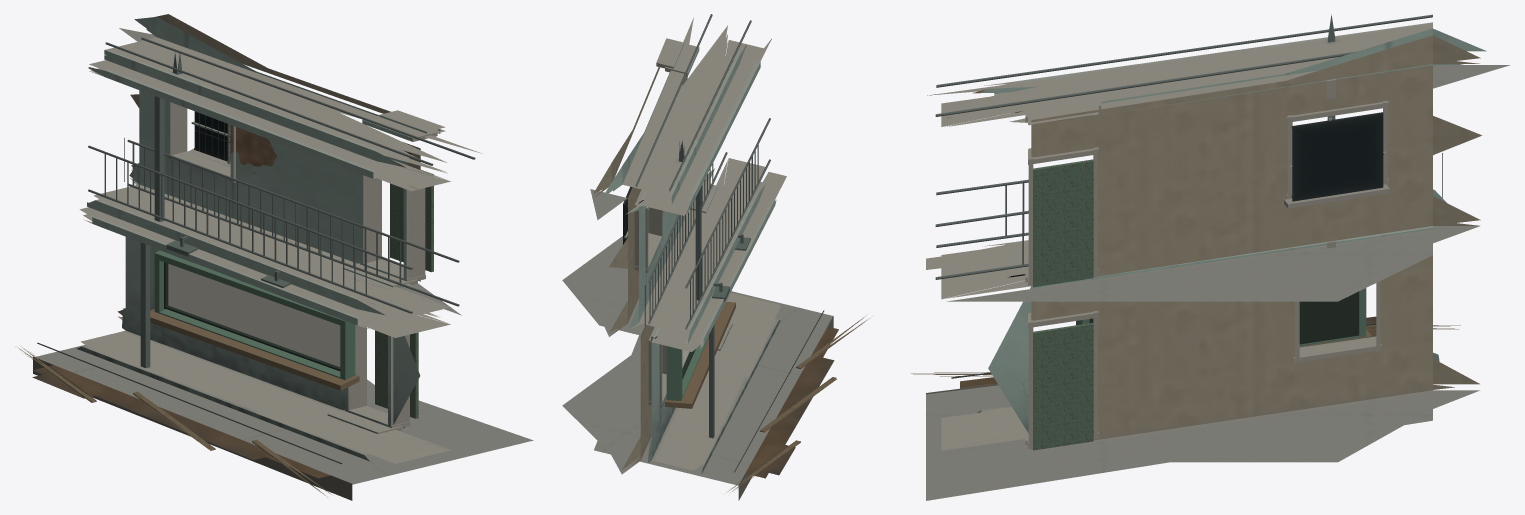
Rendered from contact-frontage.png.glb.
3 views of the same model, side by side, from view 1: azimuth 30°, elevation 25°; view 2: azimuth 150°, elevation 25°; view 3: azimuth 270°, elevation 25° (orthographic). The views are drawn at different scales.
Visible parts, largest first — view 1: Runtime / REV15Z / REV15N / Existing Events house shell, Runtime / REV15Z / REV15 / REV08 / perimeter roofs / continu, Runtime / REV15Z / REV15 / REV12 / R1 / mineral concrete, Runtime / REV15Z / REV15O / REV12 / R1 / blackened zinc and , Runtime / REV15Z / Single wide enquiry window frame and sill, Runtime / REV15Z / Full-width message surface inside window, Runtime / REV15Z / Rooftop slab / 32m x 40m / asphalt replac, Runtime / REV15Z / REV15 / REV12 / R1 / muted timber green s, Runtime / REV15Z / REV15 / REV12 / R1 / dusty non-emissive g, Runtime / REV15Z / REV15 / REV08 / roof services / bituminou, Runtime / REV15Z / Contact window shaded lamp fixtures; view 2: Runtime / REV15Z / REV15N / Existing Events house shell, Runtime / REV15Z / REV15 / REV08 / perimeter roofs / continu, Runtime / REV15Z / REV15O / REV12 / R1 / blackened zinc and , Runtime / REV15Z / REV15 / REV12 / R1 / mineral concrete, Runtime / REV15Z / Rooftop slab / 32m x 40m / asphalt replac, Runtime / REV15Z / Single wide enquiry window frame and sill, Runtime / REV15Z / REV15 / PILOT / roof edge service strip.0 (×3), Runtime / REV15Z / Contact window shaded lamp fixtures; view 3: Runtime / REV15Z / REV15N / Existing Events house shell, Runtime / REV15Z / REV15 / REV12 / R1 / muted timber green s, Runtime / REV15Z / REV15 / REV08 / perimeter roofs / continu, Runtime / REV15Z / REV15 / REV12 / R1 / mineral concrete, Runtime / REV15Z / REV15 / REV12 / R1 / dusty non-emissive g, Runtime / REV15Z / REV15O / REV12 / R1 / blackened zinc and , Runtime / REV15Z / Single wide enquiry window frame and sill, Runtime / REV15Z / R1 window detail batch.
Boxes of the visible parts, left/top/right/bottom form: Runtime / REV15Z / REV15N / Existing Events house shell: left=77, top=14, right=482, bottom=463; Runtime / REV15Z / REV15 / REV08 / perimeter roofs / continu: left=35, top=345, right=533, bottom=484; Runtime / REV15Z / REV15 / REV12 / R1 / mineral concrete: left=132, top=101, right=445, bottom=433; Runtime / REV15Z / REV15O / REV12 / R1 / blackened zinc and : left=88, top=35, right=475, bottom=313; Runtime / REV15Z / Single wide enquiry window frame and sill: left=150, top=250, right=359, bottom=390; Runtime / REV15Z / Full-width message surface inside window: left=168, top=264, right=340, bottom=366; Runtime / REV15Z / Rooftop slab / 32m x 40m / asphalt replac: left=32, top=357, right=352, bottom=500; Runtime / REV15Z / REV15 / REV12 / R1 / muted timber green s: left=375, top=170, right=433, bottom=418; Runtime / REV15Z / REV15 / REV12 / R1 / dusty non-emissive g: left=194, top=111, right=227, bottom=161; Runtime / REV15Z / REV15 / REV08 / roof services / bituminou: left=37, top=342, right=342, bottom=464; Runtime / REV15Z / Contact window shaded lamp fixtures: left=166, top=235, right=290, bottom=287; Runtime / REV15Z / REV15N / Existing Events house shell: left=562, top=17, right=786, bottom=474; Runtime / REV15Z / REV15 / REV08 / perimeter roofs / continu: left=594, top=291, right=832, bottom=485; Runtime / REV15Z / REV15O / REV12 / R1 / blackened zinc and : left=632, top=14, right=770, bottom=329; Runtime / REV15Z / REV15 / REV12 / R1 / mineral concrete: left=634, top=38, right=732, bottom=407; Runtime / REV15Z / Rooftop slab / 32m x 40m / asphalt replac: left=738, top=316, right=838, bottom=500; Runtime / REV15Z / Single wide enquiry window frame and sill: left=665, top=301, right=735, bottom=408; Runtime / REV15Z / REV15 / PILOT / roof edge service strip.0 (×3): left=728, top=315, right=869, bottom=492; Runtime / REV15Z / Contact window shaded lamp fixtures: left=712, top=234, right=750, bottom=301; Runtime / REV15Z / REV15N / Existing Events house shell: left=926, top=14, right=1510, bottom=462; Runtime / REV15Z / REV15 / REV12 / R1 / muted timber green s: left=1033, top=159, right=1093, bottom=450; Runtime / REV15Z / REV15 / REV08 / perimeter roofs / continu: left=926, top=385, right=1432, bottom=500; Runtime / REV15Z / REV15 / REV12 / R1 / mineral concrete: left=1025, top=79, right=1388, bottom=448; Runtime / REV15Z / REV15 / REV12 / R1 / dusty non-emissive g: left=1292, top=112, right=1383, bottom=201; Runtime / REV15Z / REV15O / REV12 / R1 / blackened zinc and : left=935, top=14, right=1442, bottom=279; Runtime / REV15Z / Single wide enquiry window frame and sill: left=1076, top=288, right=1372, bottom=347; Runtime / REV15Z / R1 window detail batch: left=1284, top=126, right=1389, bottom=208.
Size of the model in its own units: 6.87 by 6.87 by 9.61.
Materials: 24 (10 with a texture image).
